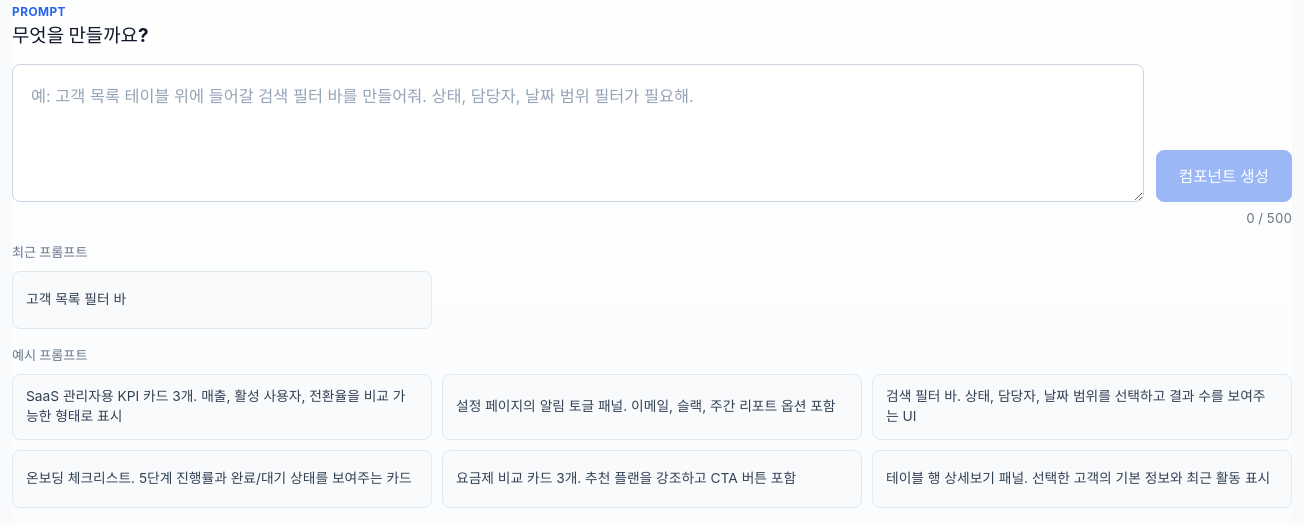
Test: PromptInput › 최근 프롬프트를 클릭하면 입력창에 채워진다
Click the button "고객 목록 필터 바".
click(76, 299)  # box [12,271,432,329]
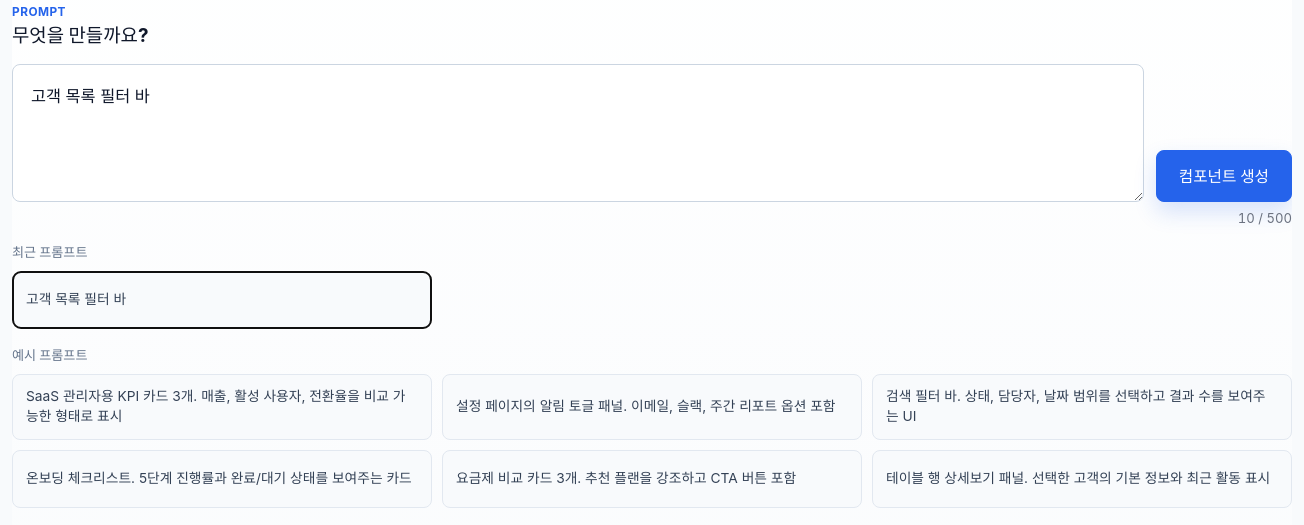
Expected: the text box holds "고객 목록 필터 바", [12,64,1144,202]
